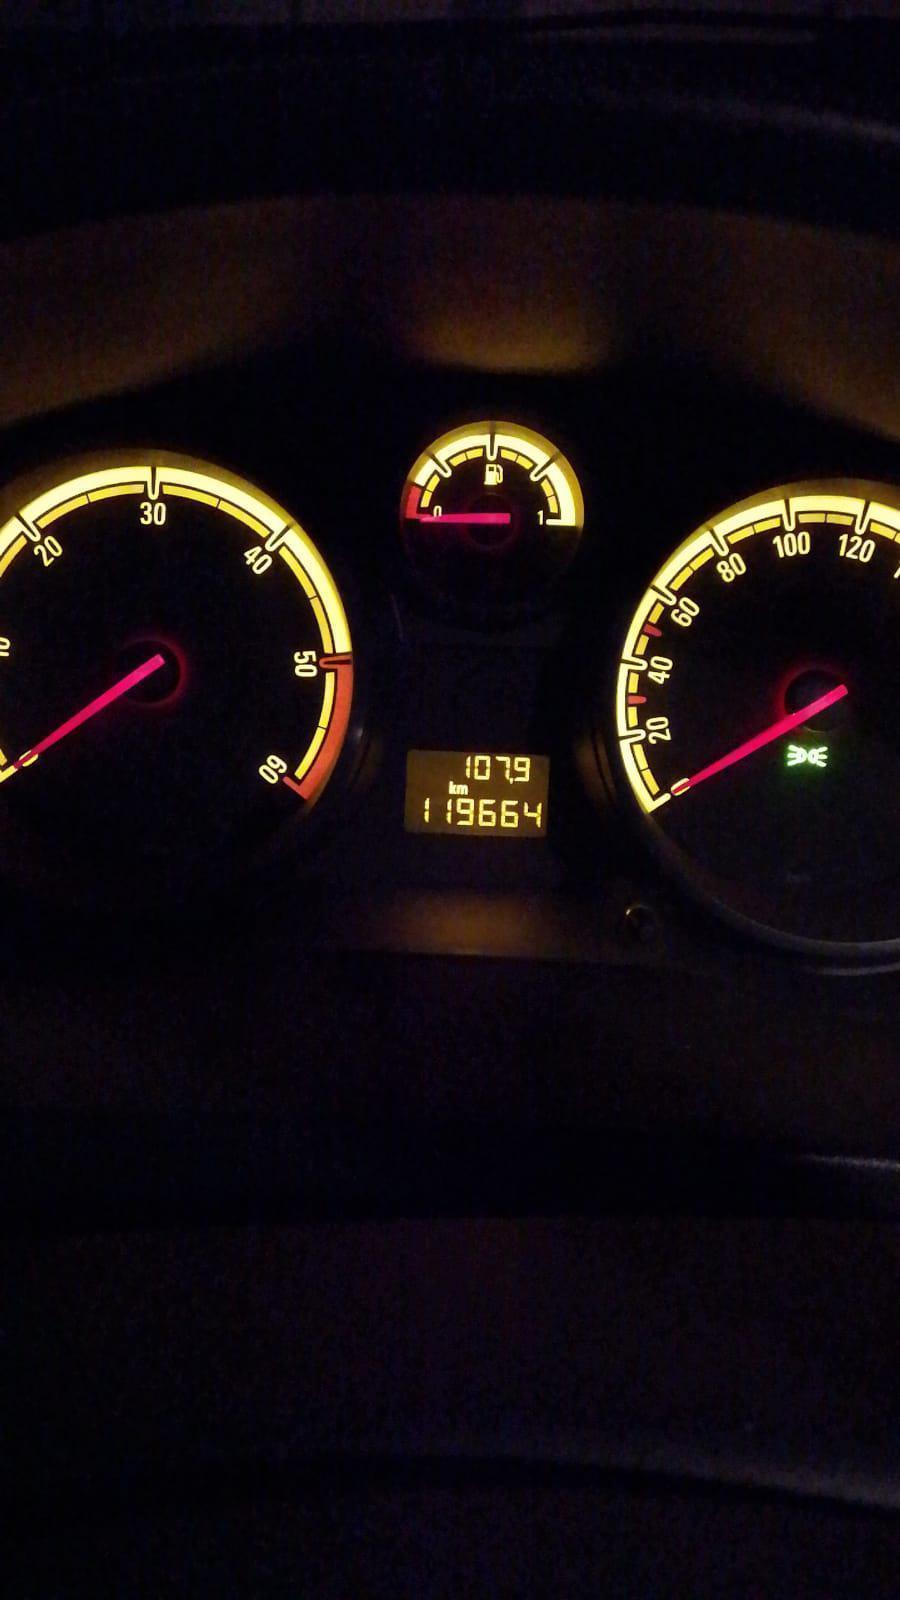,: (509, 777, 513, 784)
0: (473, 754, 490, 780)
1: (423, 797, 431, 824), (464, 755, 471, 779), (445, 797, 452, 824)
4: (522, 800, 542, 827)
6: (477, 798, 496, 827), (500, 799, 519, 827)
7: (495, 755, 511, 780)
9: (455, 797, 474, 826), (513, 756, 531, 782)
X: (456, 784, 468, 795), (447, 780, 456, 795)
odometer: (402, 747, 551, 840)
